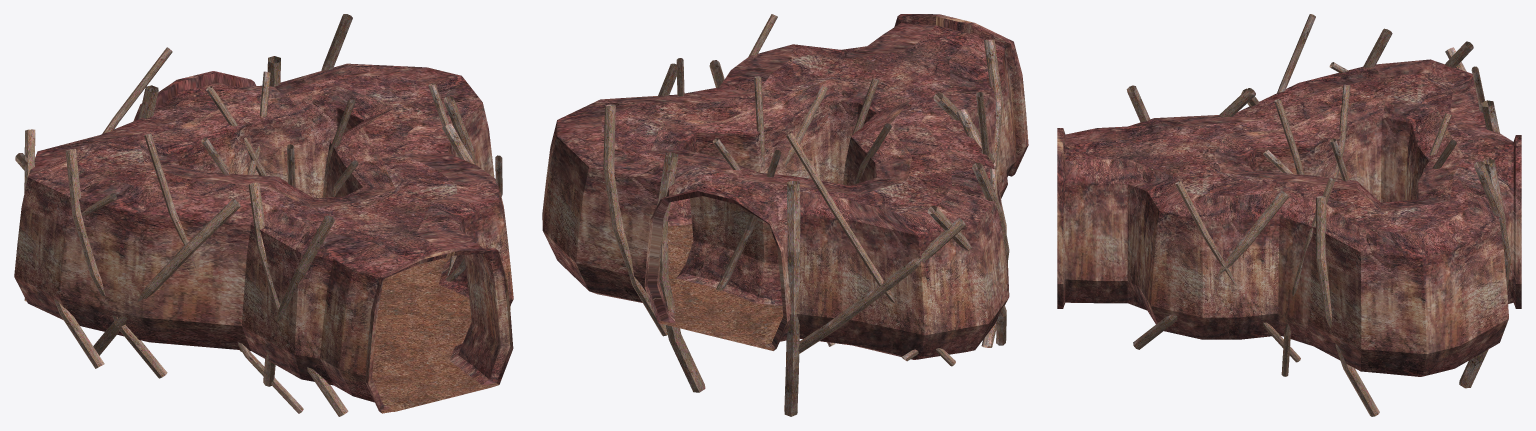
File: thm_dath_night_sister_stronghold_r2_mesh_r2.fbx
3 renders of one model, left to right at view 1: azimuth 30°, elevation 25°; view 2: azimuth 150°, elevation 25°; view 3: azimuth 270°, elevation 25°, orthographic. The views are drawn at different scales.
Visible parts, largest first — view 1: mesh_node; view 2: mesh_node; view 3: mesh_node.
Boxes of the visible parts, left/top/right/bottom form: mesh_node: left=14, top=14, right=513, bottom=416; mesh_node: left=542, top=14, right=1028, bottom=416; mesh_node: left=1057, top=14, right=1521, bottom=416.
Size of the model in its own units: 14.02 by 8.63 by 13.09.
